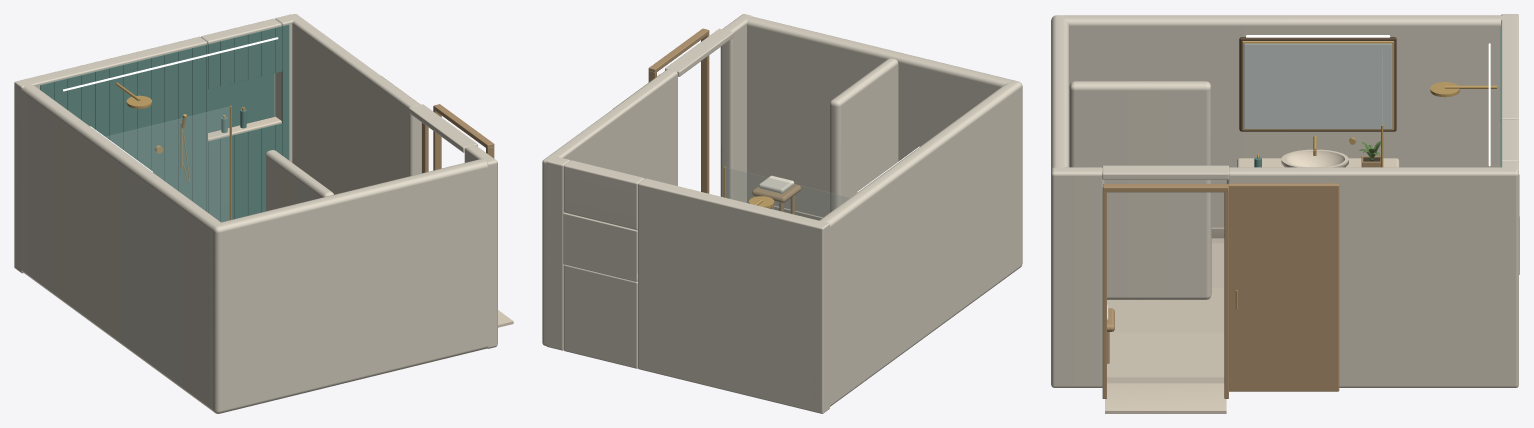
File: room-bath-bedroom.glb
The picture shows the model from 3 angles, left to right: view 1: azimuth 30°, elevation 25°; view 2: azimuth 150°, elevation 25°; view 3: azimuth 270°, elevation 25°; orthographic projection. The views are drawn at different scales.
Parts seen in each view (by area): view 1: bath-bedroom__chalk limestone, bath-bedroom__bathroom celadon ceramic, bath-bedroom__bathroom clear shower glass, bath-bedroom__pale oak, bath-bedroom__brushed brass, bath-bedroom__honed travertine, bath-bedroom__bathroom warm diffuser; view 2: bath-bedroom__chalk limestone, bath-bedroom__bathroom clear shower glass, bath-bedroom__pale oak, bath-bedroom__linen; view 3: bath-bedroom__chalk limestone, bath-bedroom__pale oak, bath-bedroom__bathroom satin mirror, bath-bedroom__honed travertine, bath-bedroom__bathroom honed travertine ivory, bath-bedroom__bathroom honed travertine sand, bath-bedroom__brushed brass, bath-bedroom__honey ash, bath-bedroom__warm cut stone, bath-bedroom__bathroom warm diffuser, bath-bedroom__bathroom honed travertine oat.
Part boxes in pixels (x1=…): bath-bedroom__chalk limestone: x1=14, y1=14, x2=497, y2=413; bath-bedroom__bathroom celadon ceramic: x1=40, y1=24, x2=289, y2=222; bath-bedroom__bathroom clear shower glass: x1=106, y1=107, x2=229, y2=221; bath-bedroom__pale oak: x1=381, y1=76, x2=494, y2=173; bath-bedroom__brushed brass: x1=115, y1=82, x2=244, y2=219; bath-bedroom__honed travertine: x1=208, y1=116, x2=513, y2=327; bath-bedroom__bathroom warm diffuser: x1=63, y1=37, x2=278, y2=172; bath-bedroom__chalk limestone: x1=542, y1=14, x2=1022, y2=413; bath-bedroom__bathroom clear shower glass: x1=726, y1=167, x2=849, y2=219; bath-bedroom__pale oak: x1=613, y1=28, x2=801, y2=214; bath-bedroom__linen: x1=759, y1=175, x2=794, y2=193; bath-bedroom__chalk limestone: x1=1051, y1=14, x2=1519, y2=387; bath-bedroom__pale oak: x1=1102, y1=183, x2=1339, y2=398; bath-bedroom__bathroom satin mirror: x1=1244, y1=43, x2=1392, y2=129; bath-bedroom__honed travertine: x1=1105, y1=149, x2=1399, y2=413; bath-bedroom__bathroom honed travertine ivory: x1=1107, y1=332, x2=1224, y2=377; bath-bedroom__bathroom honed travertine sand: x1=1107, y1=288, x2=1224, y2=332; bath-bedroom__brushed brass: x1=1235, y1=41, x2=1496, y2=309; bath-bedroom__honey ash: x1=1239, y1=37, x2=1396, y2=131; bath-bedroom__warm cut stone: x1=1107, y1=227, x2=1224, y2=383; bath-bedroom__bathroom warm diffuser: x1=1246, y1=35, x2=1490, y2=166; bath-bedroom__bathroom honed travertine oat: x1=1211, y1=243, x2=1224, y2=287.
Bounding box in the file's own units: 4.22 × 2.39 × 4.62.
